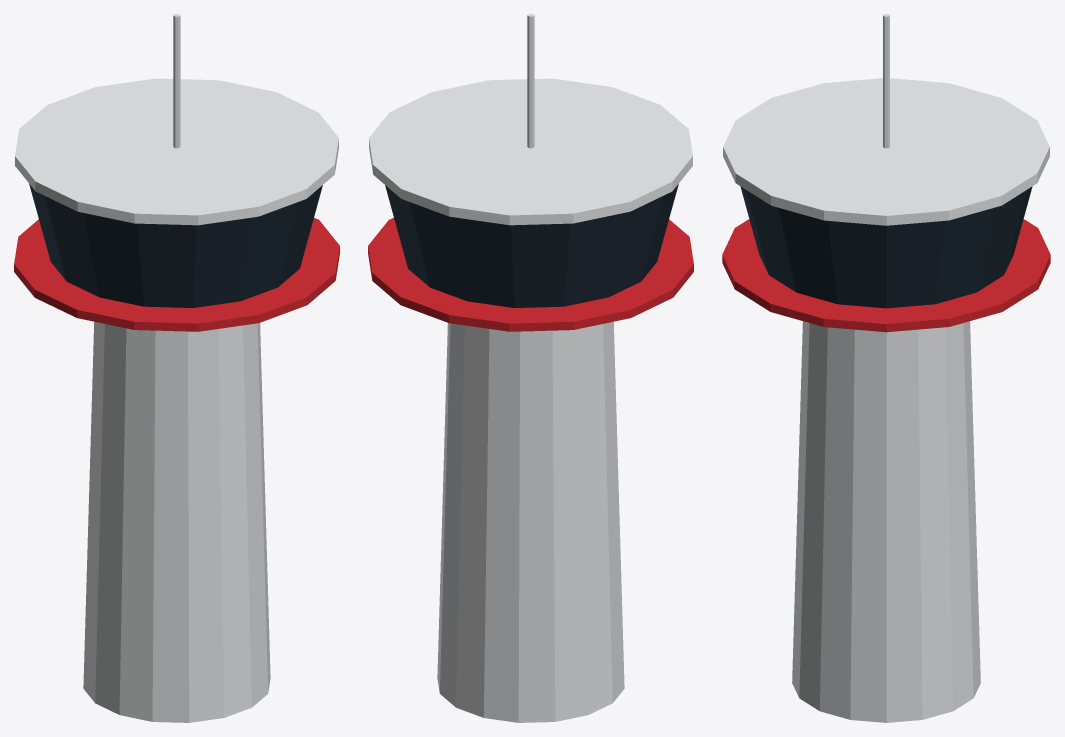
Rendered from control_tower.glb.
The picture shows the model from 3 angles, left to right: view 1: azimuth 30°, elevation 25°; view 2: azimuth 150°, elevation 25°; view 3: azimuth 270°, elevation 25°; orthographic projection.
Visible parts, largest first — view 1: control_tower; view 2: control_tower; view 3: control_tower.
Boxes of the visible parts, box(x1,y1,x2,y2) form: control_tower: box(14, 14, 339, 722); control_tower: box(368, 14, 693, 722); control_tower: box(722, 14, 1050, 722).
Bounding box in the file's own units: 18.1 × 40.6 × 18.1.
